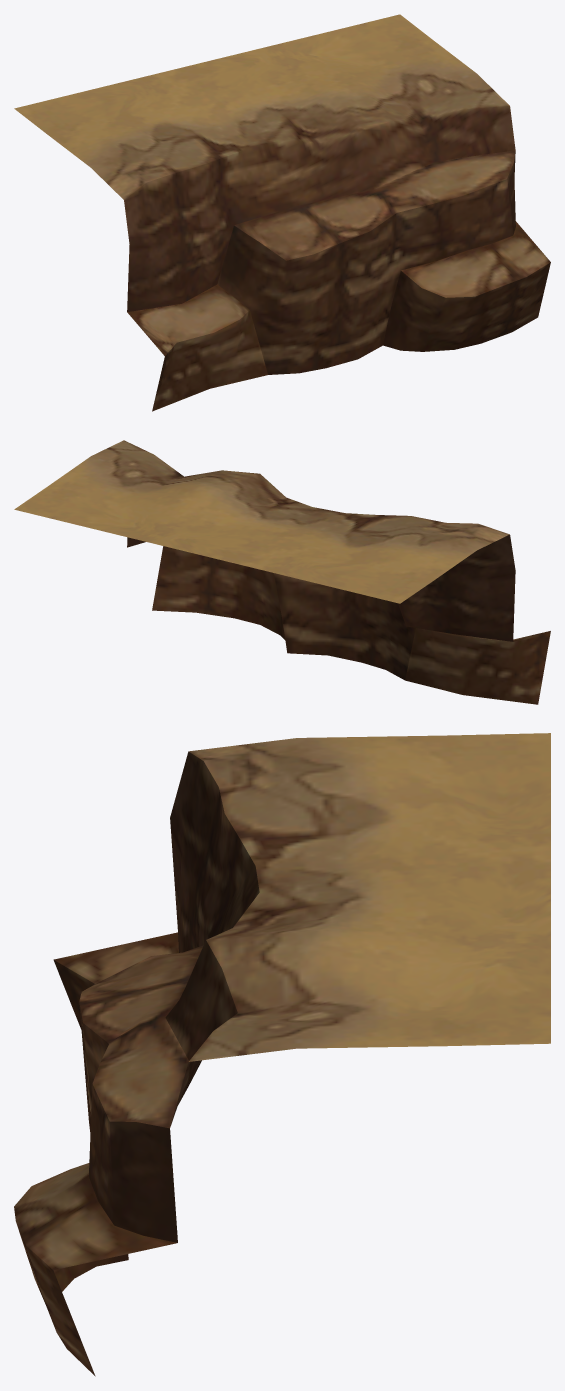
File: nashgar_trim_base2_rock01_01.FBX
3 renders of one model, top to bottom at view 1: azimuth 30°, elevation 25°; view 2: azimuth 150°, elevation 25°; view 3: azimuth 270°, elevation 25°, orthographic. The views are drawn at different scales.
Parts seen in each view (by area): view 1: nashgar_trim_base2_rock01_01; view 2: nashgar_trim_base2_rock01_01; view 3: nashgar_trim_base2_rock01_01.
Part boxes in pixels (left/top/right/bottom): nashgar_trim_base2_rock01_01: left=14, top=14, right=550, bottom=411; nashgar_trim_base2_rock01_01: left=14, top=440, right=550, bottom=704; nashgar_trim_base2_rock01_01: left=14, top=733, right=550, bottom=1376.
Bounding box in the file's own units: 4 × 2.03 × 2.92.
